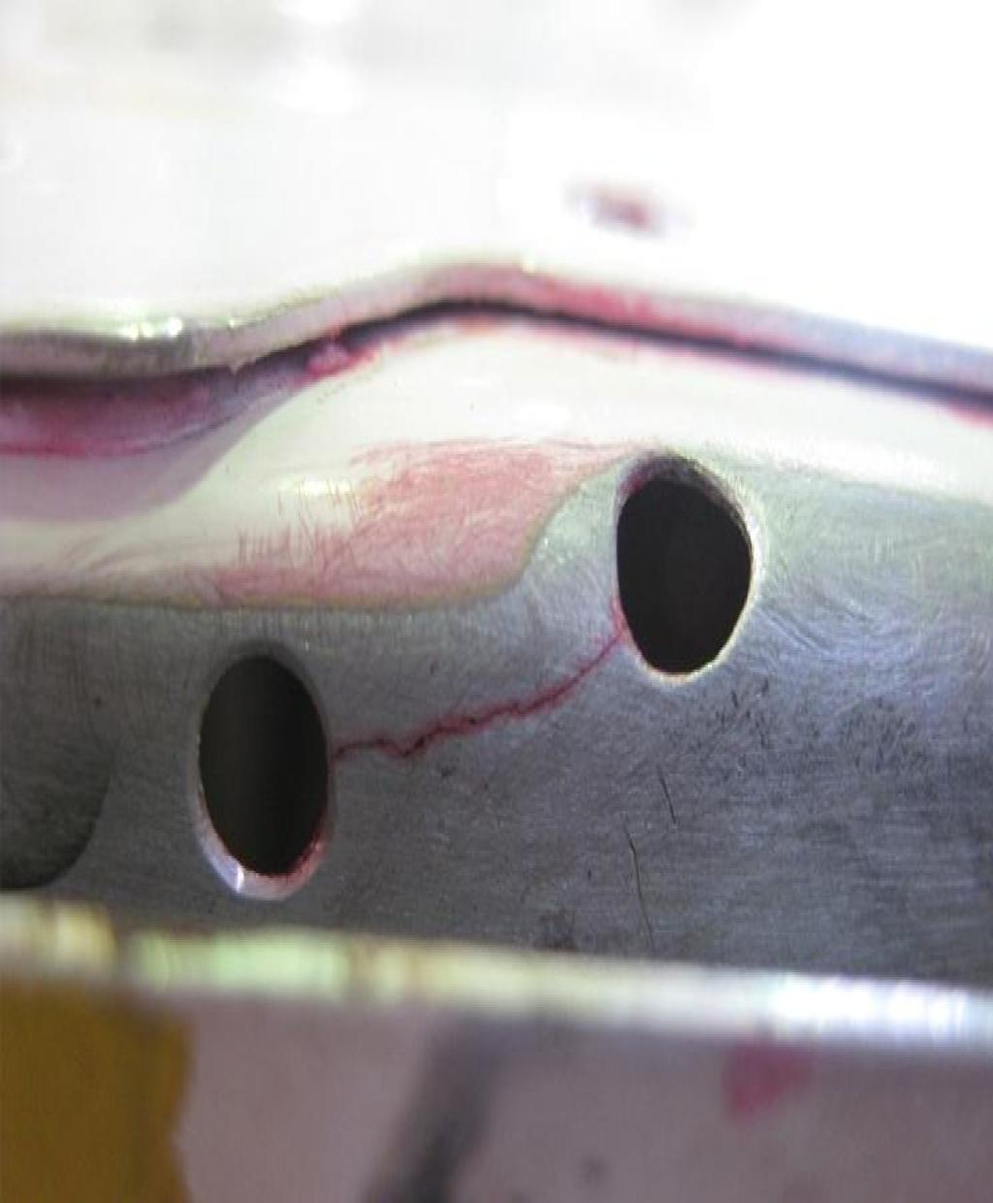crack: (326, 626, 633, 764), (0, 735, 124, 896)
